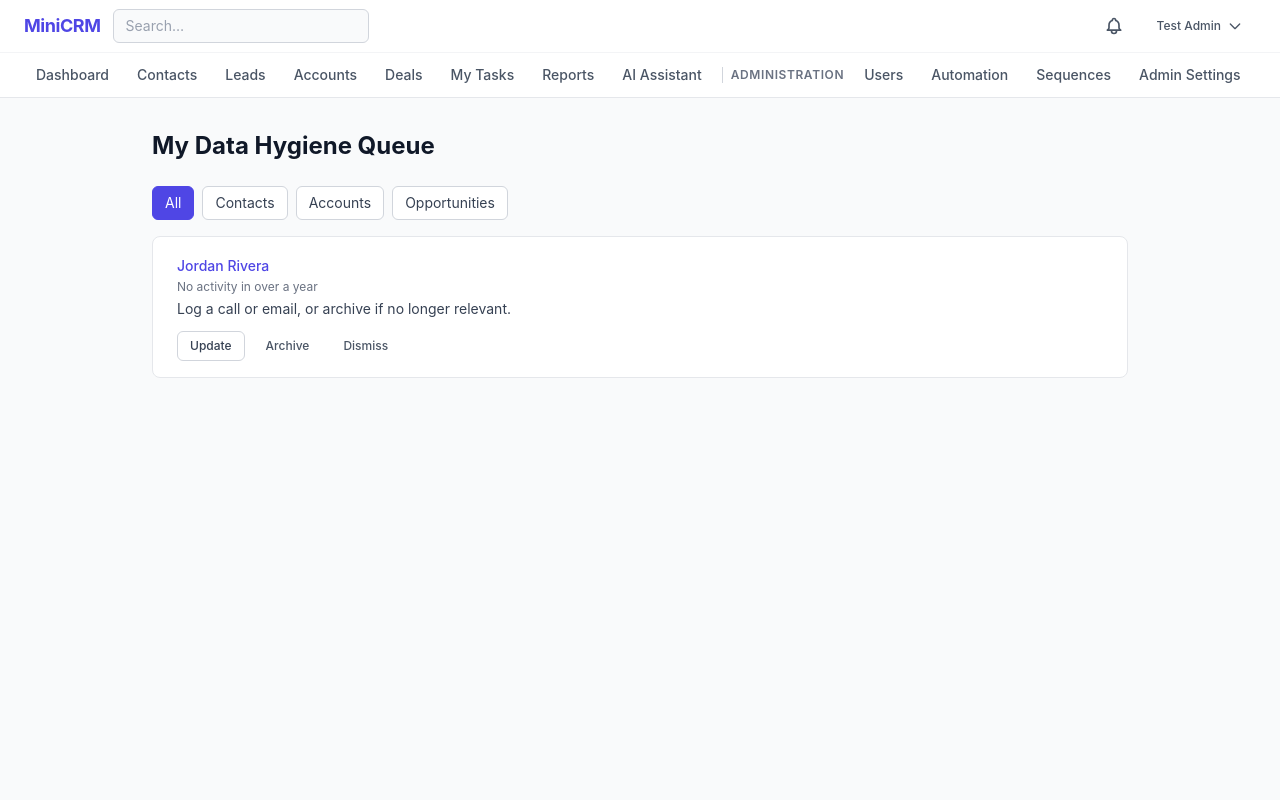
Test case: DataHygienePage › requires a non-empty reason before the dismiss confirm button is enabled
The image size is (1280, 800).
Click the button "Dismiss" at (366, 346), box [330,331,401,361]
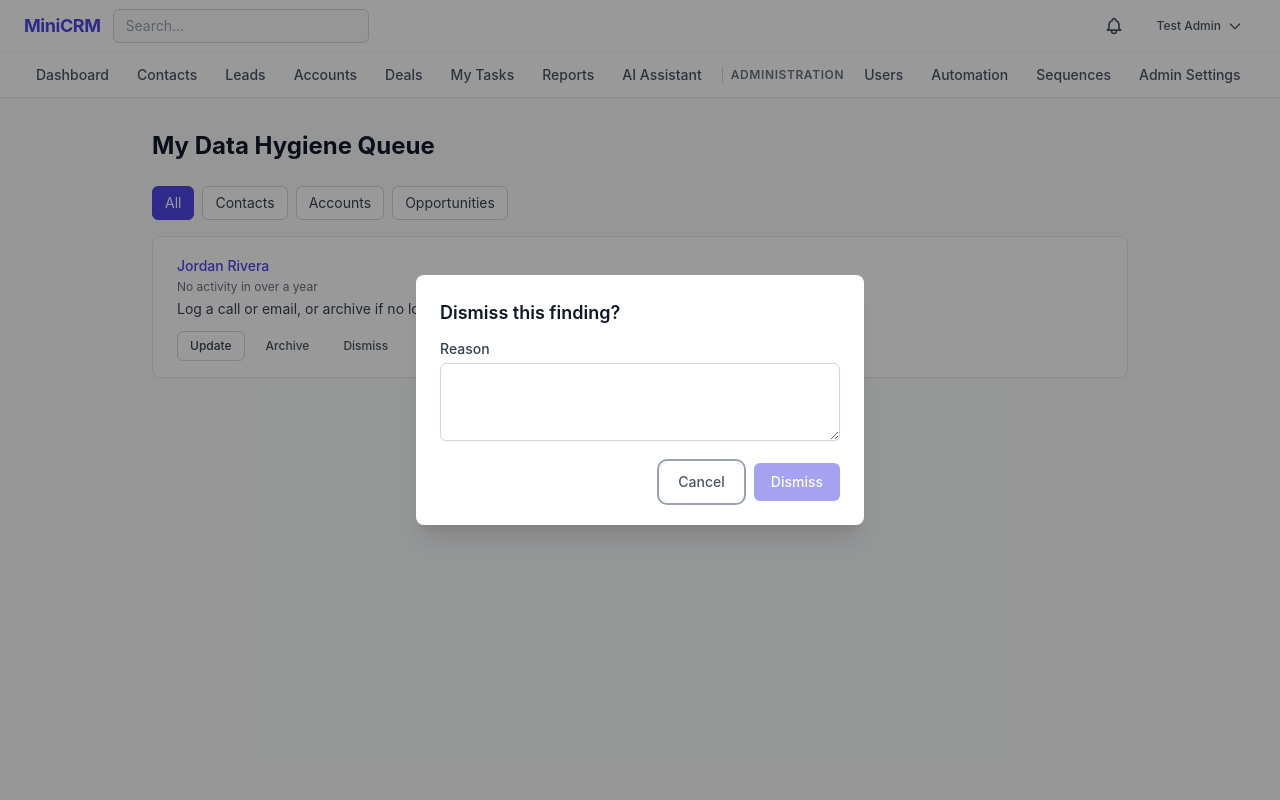
Check: the dialog with test id "data-hygiene-dismiss-dialog" is shown
Check: the button with test id "data-hygiene-dismiss-confirm" is disabled, box [754,463,840,501]
Type "Verified with the customer directly" into the text box with test id "data-hygiene-dismiss-reason-input" at (640, 402), box [440,363,840,441]
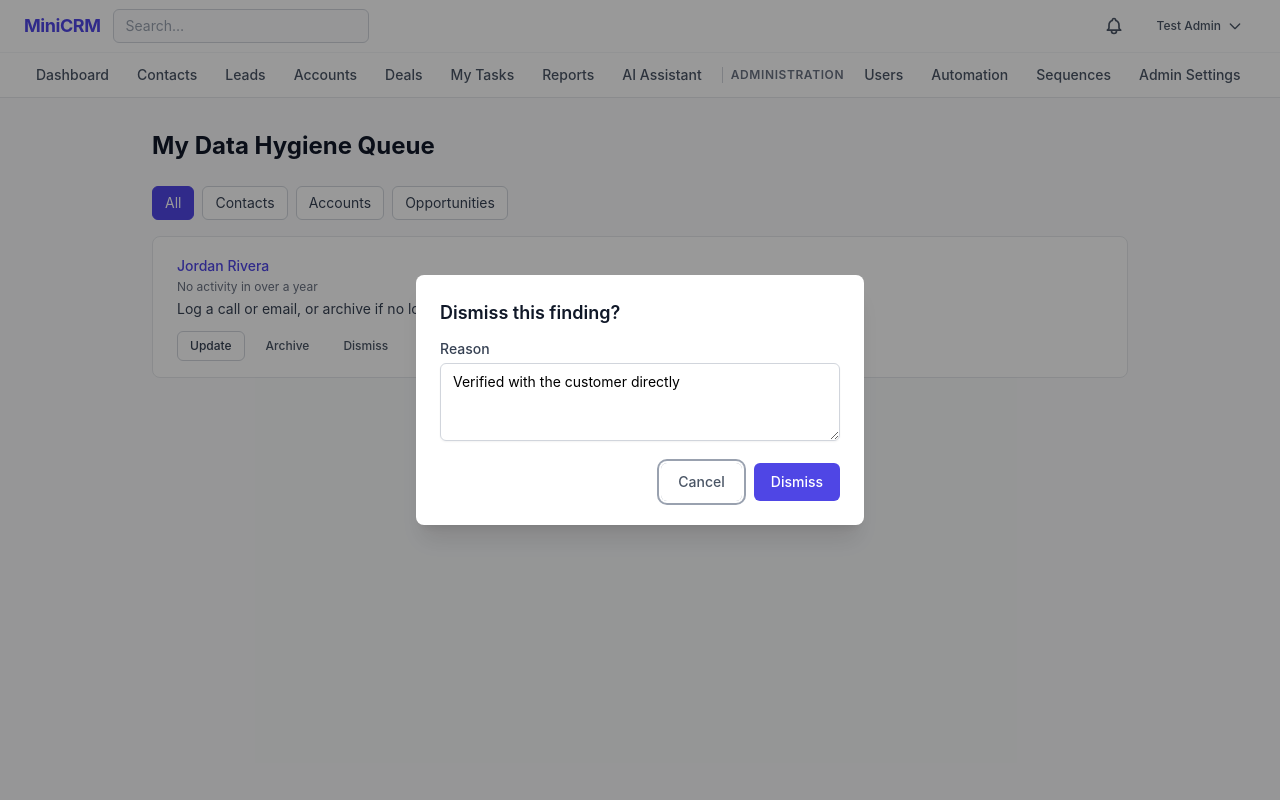
Check: the button with test id "data-hygiene-dismiss-confirm" is enabled, box [754,463,840,501]
